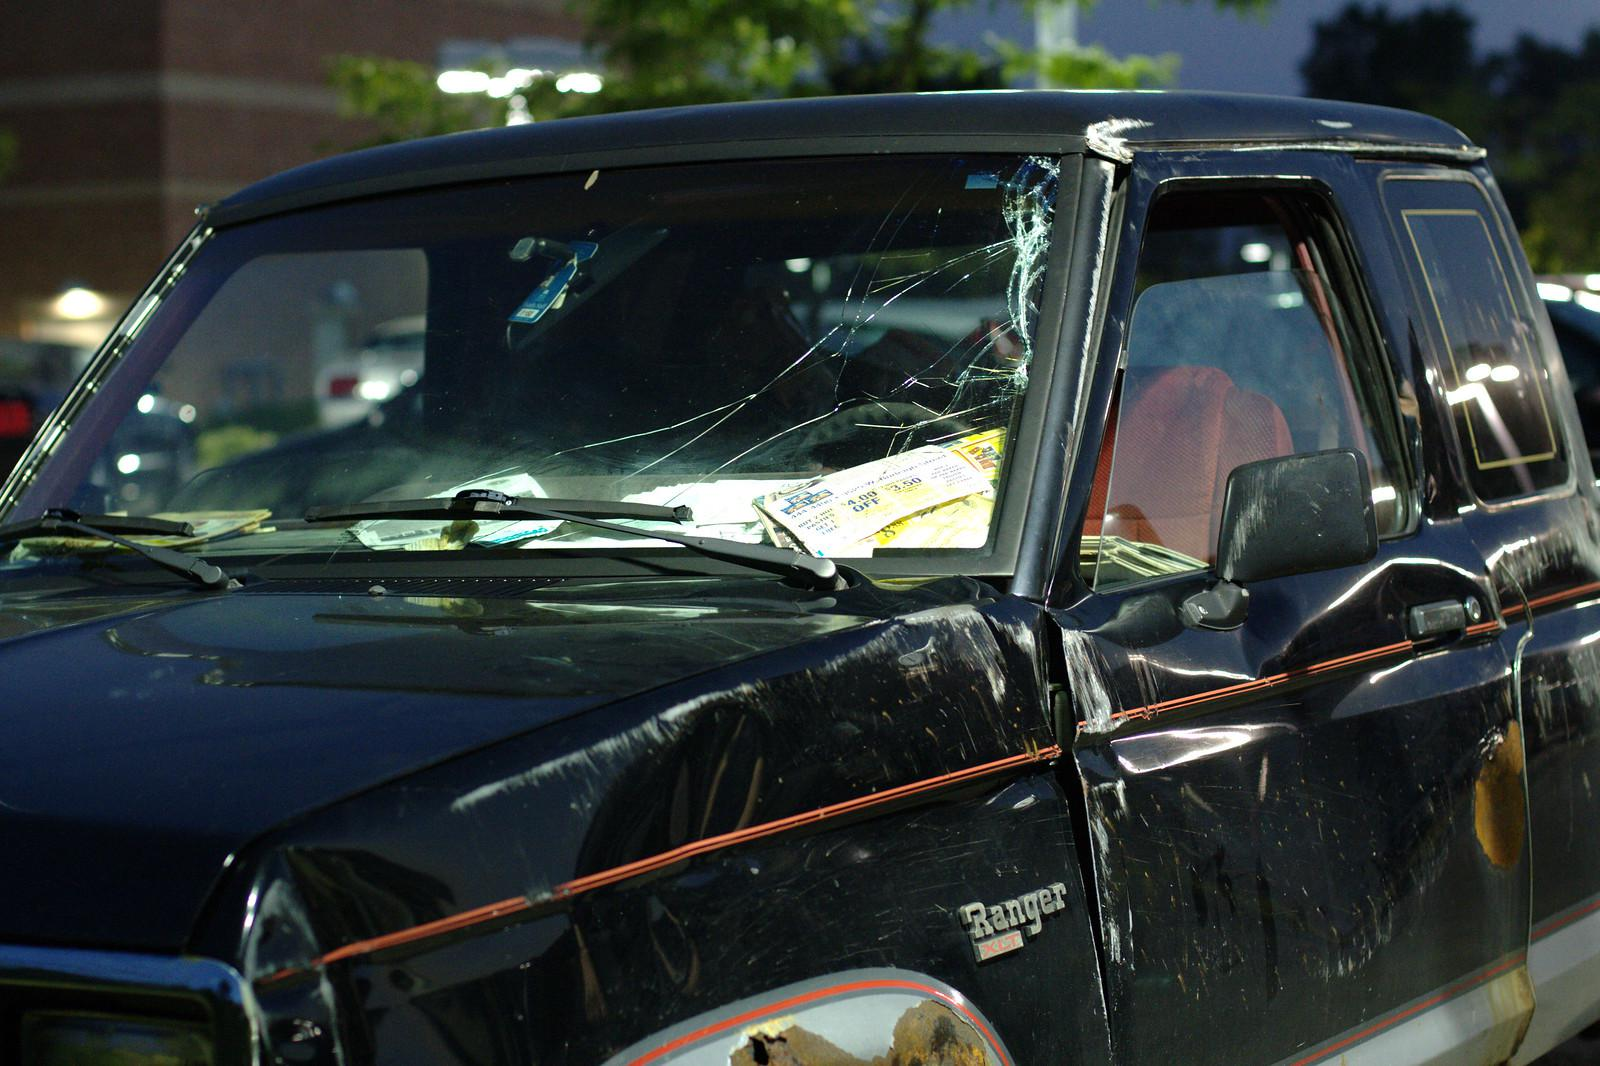Front-Windscreen-Damage: (476, 153, 1100, 588)
doorouter-dent: (1088, 558, 1501, 1023)
fender-dent: (568, 613, 1068, 920)
